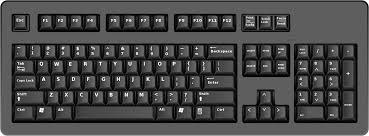keyboard: (0, 1, 369, 136)
